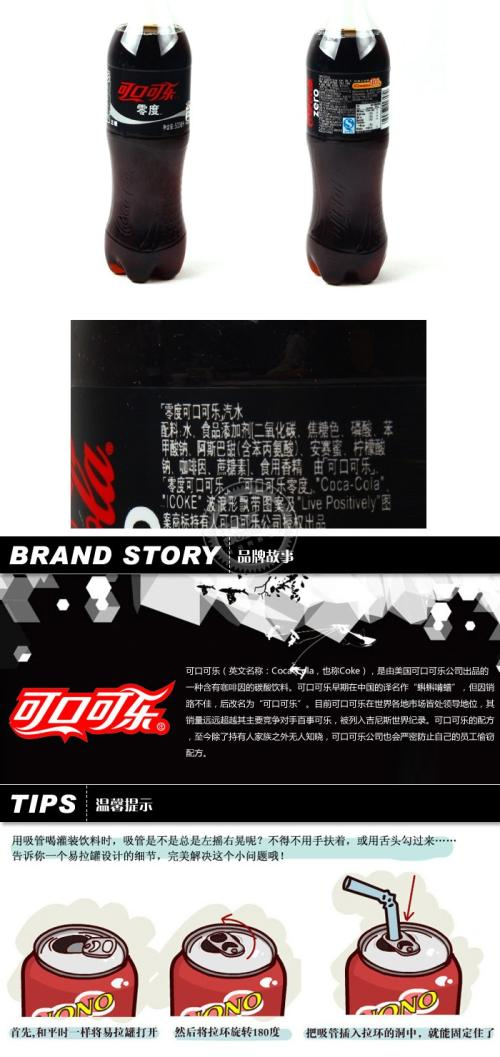coke_zero: (292, 11, 398, 297), (94, 15, 202, 291)
